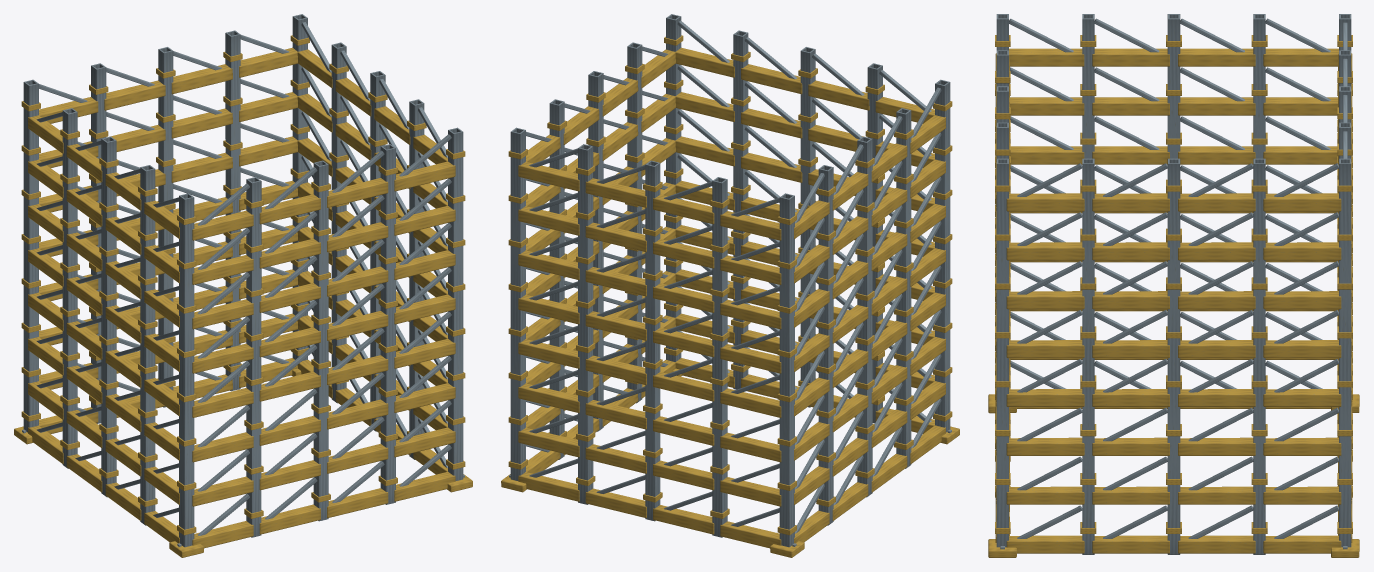
The picture shows the model from 3 angles, left to right: view 1: azimuth 30°, elevation 25°; view 2: azimuth 150°, elevation 25°; view 3: azimuth 270°, elevation 25°; orthographic projection. The views are drawn at different scales.
Visible parts, largest first — view 1: Tier 0 side 0 post 0, Tier 0 side 1 post 0, Tier 0 side 0 post 1, Tier 0 side 0 post 3, Tier 0 side 0 post 2, Tier 0 side 3 post 0, Tier 0 side 3 post 2, Tier 0 side 3 post 1, Tier 0 side 3 post 3, Tier 0 side 2 post 2, Tier 0 side 2 post 1, Tier 0 side 1 post 3 (+88 smaller); view 2: Tier 0 side 3 post 0, Tier 0 side 2 post 0, Tier 0 side 2 post 3, Tier 0 side 2 post 1, Tier 0 side 2 post 2, Tier 0 side 0 post 0, Tier 0 side 3 post 3, Tier 0 side 3 post 2, Tier 0 side 3 post 1, Tier 0 side 0 post 3, Tier 0 side 0 post 2, Tier 0 side 1 post 1 (+93 smaller); view 3: Tier 0 side 1 post 2, Tier 0 side 1 post 0, Tier 0 side 2 post 0, Tier 0 side 1 post 3, Tier 0 side 1 post 1, Tier 0 side 3 post 2, Tier 0 side 3 post 3, Tier 0 side 3 post 1, Tier 0 bay 1-5-0 service deck, Tier 0 bay 1-5-3 service deck, Tier 0 bay 1-4-0 service deck, Tier 0 bay 1-4-3 service deck (+40 smaller).
Part boxes in pixels (bbox=[...]): Tier 0 side 0 post 0: bbox=[179, 193, 194, 547]; Tier 0 side 1 post 0: bbox=[448, 127, 463, 480]; Tier 0 side 0 post 1: bbox=[246, 177, 261, 537]; Tier 0 side 0 post 3: bbox=[380, 144, 395, 504]; Tier 0 side 0 post 2: bbox=[313, 160, 328, 521]; Tier 0 side 3 post 0: bbox=[23, 79, 38, 432]; Tier 0 side 3 post 2: bbox=[101, 136, 116, 497]; Tier 0 side 3 post 1: bbox=[62, 108, 77, 468]; Tier 0 side 3 post 3: bbox=[140, 165, 155, 525]; Tier 0 side 2 post 2: bbox=[158, 47, 173, 407]; Tier 0 side 2 post 1: bbox=[225, 30, 240, 391]; Tier 0 side 1 post 3: bbox=[331, 42, 346, 403]; Tier 0 side 3 post 0: bbox=[779, 193, 794, 547]; Tier 0 side 2 post 0: bbox=[510, 127, 525, 480]; Tier 0 side 2 post 3: bbox=[712, 177, 727, 537]; Tier 0 side 2 post 1: bbox=[578, 144, 593, 504]; Tier 0 side 2 post 2: bbox=[645, 160, 660, 521]; Tier 0 side 0 post 0: bbox=[935, 79, 950, 432]; Tier 0 side 3 post 3: bbox=[896, 108, 911, 468]; Tier 0 side 3 post 2: bbox=[857, 136, 872, 497]; Tier 0 side 3 post 1: bbox=[818, 165, 833, 525]; Tier 0 side 0 post 3: bbox=[733, 30, 748, 389]; Tier 0 side 0 post 2: bbox=[800, 47, 815, 407]; Tier 0 side 1 post 1: bbox=[627, 42, 642, 403]; Tier 0 side 1 post 2: bbox=[1167, 158, 1180, 554]; Tier 0 side 1 post 0: bbox=[996, 158, 1008, 547]; Tier 0 side 2 post 0: bbox=[1339, 158, 1351, 547]; Tier 0 side 1 post 3: bbox=[1253, 158, 1265, 554]; Tier 0 side 1 post 1: bbox=[1082, 158, 1094, 554]; Tier 0 side 3 post 2: bbox=[1167, 14, 1180, 158]; Tier 0 side 3 post 3: bbox=[1082, 14, 1094, 158]; Tier 0 side 3 post 1: bbox=[1253, 14, 1265, 158]; Tier 0 bay 1-5-0 service deck: bbox=[1006, 291, 1084, 309]; Tier 0 bay 1-5-3 service deck: bbox=[1263, 291, 1341, 309]; Tier 0 bay 1-4-0 service deck: bbox=[1006, 340, 1084, 358]; Tier 0 bay 1-4-3 service deck: bbox=[1263, 340, 1341, 358].
Size of the model in its own units: 1.95 by 2.27 by 1.95.
Materials: 2 (2 with a texture image).
